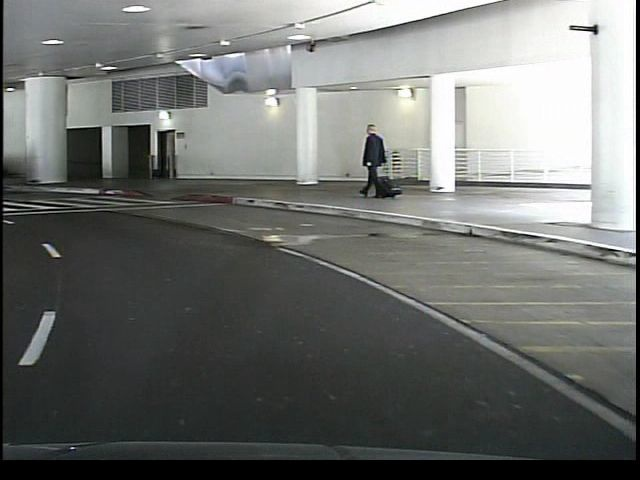person: (354, 121, 388, 199)
